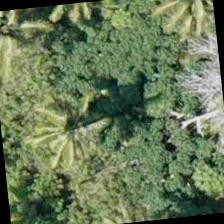Kelapa_Sawit: (18, 85, 118, 184), (0, 6, 56, 72), (145, 0, 217, 51)
